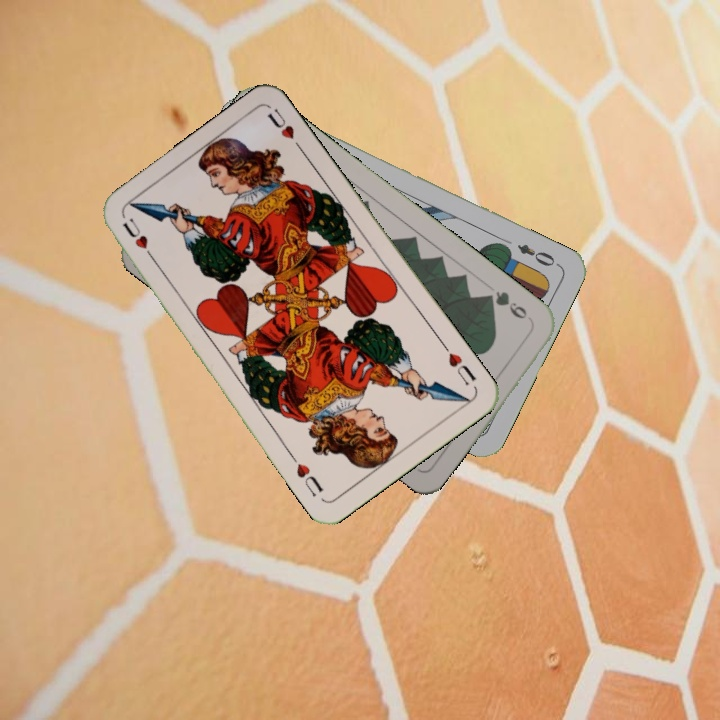EO: (513, 240, 562, 270)
G9: (481, 286, 530, 322)
HU: (118, 214, 159, 265), (438, 340, 479, 388)
